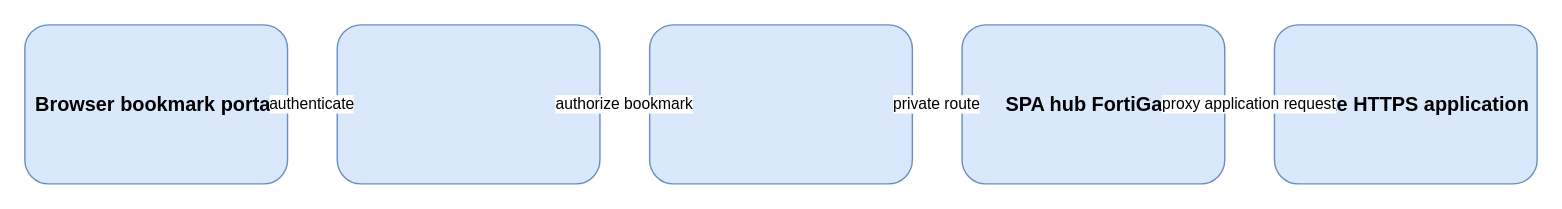
The diagram is 1562 pixels wide and 209 high, and some of its shapes have lost their labels. The centre of each missing label's shape, as x and y in pixels:
"FortiSASE Security PoP" belongs at pixel 780 103.
"Proxy SSO identity" belongs at pixel 468 103.
